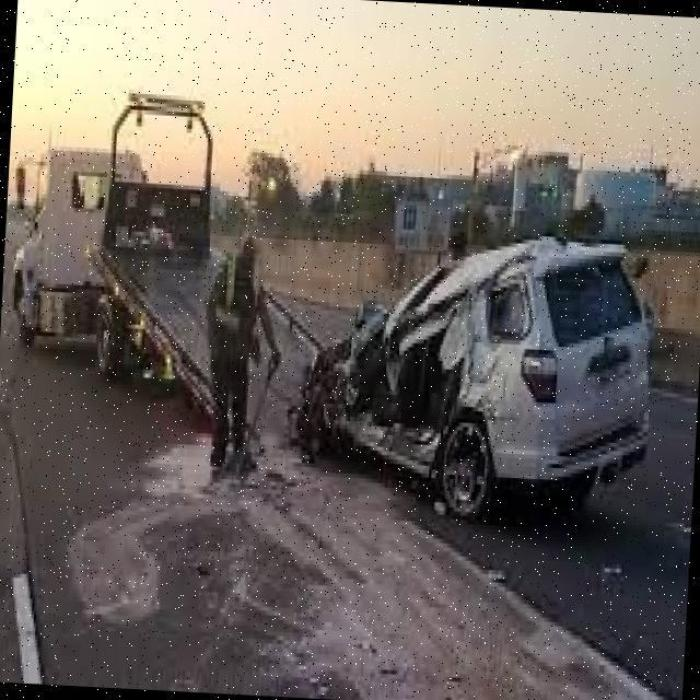Accident: (286, 216, 660, 550)
